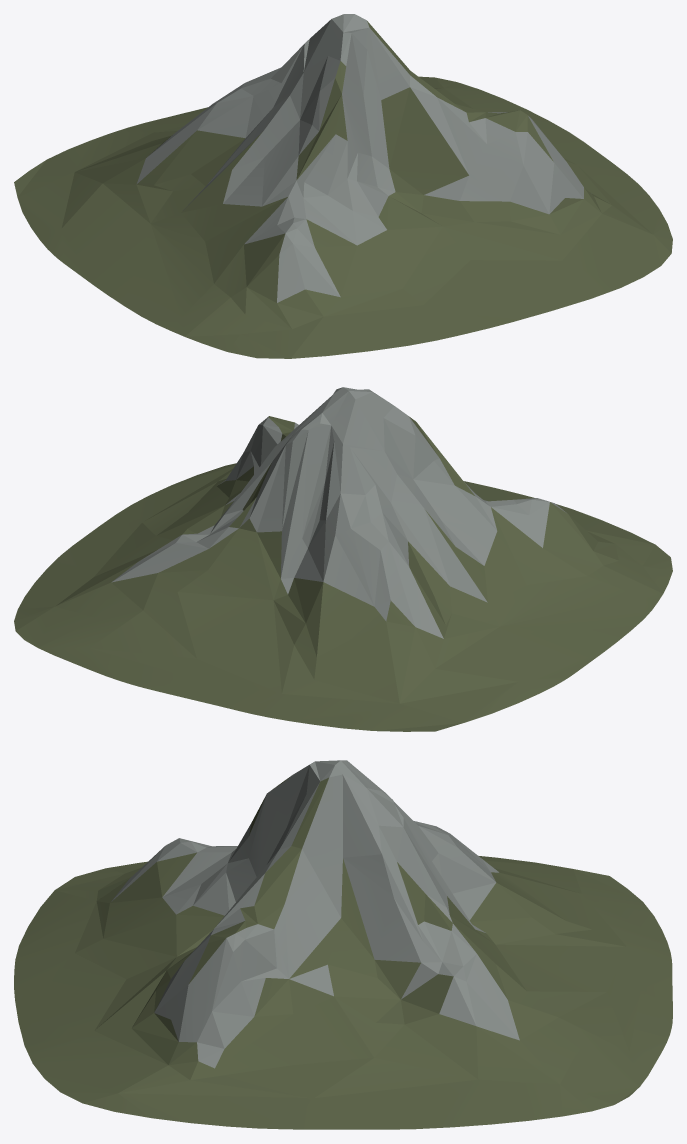
File: SM_Generic_Mountains_Grass_02.fbx
3 views of the same model, one above another, from view 1: azimuth 30°, elevation 25°; view 2: azimuth 150°, elevation 25°; view 3: azimuth 270°, elevation 25° (orthographic). The views are drawn at different scales.
Visible parts, largest first — view 1: SM_Generic_Mountains_Grass_02; view 2: SM_Generic_Mountains_Grass_02; view 3: SM_Generic_Mountains_Grass_02.
Part boxes in pixels (x1,y1,x2,y2): SM_Generic_Mountains_Grass_02: (14, 14, 672, 358); SM_Generic_Mountains_Grass_02: (14, 387, 672, 731); SM_Generic_Mountains_Grass_02: (14, 760, 672, 1129).
Bounding box in the file's own units: 14.5 × 5.54 × 14.49.
